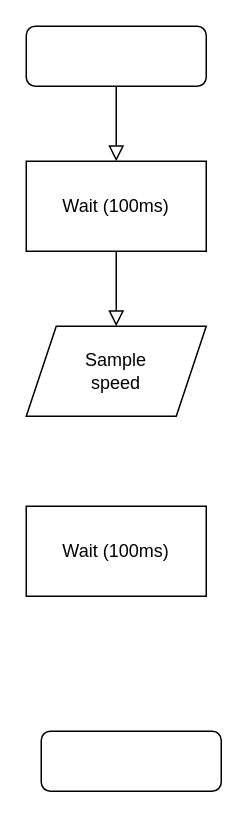
The diagram is 248 pixels wide and 818 high, and some of its shapes have lost their labels. Here are the shapes that lost their labels. From the top down, the box of each, then its label:
(25, 25, 206, 86): Start
(40, 730, 221, 791): End
